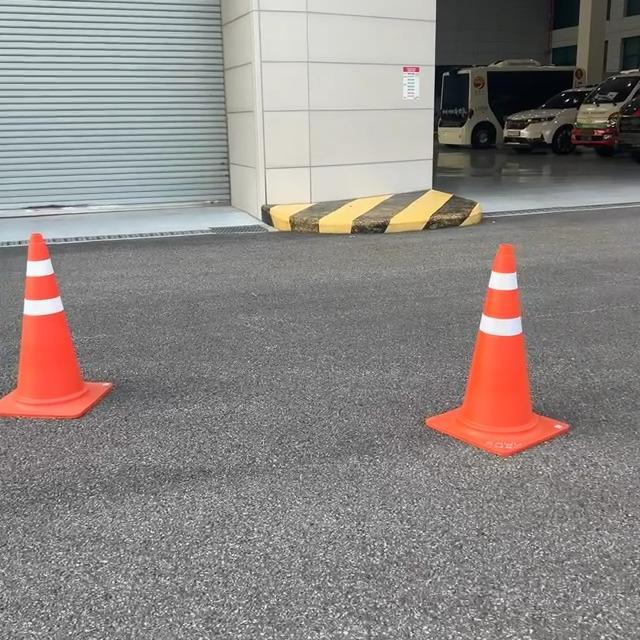fallen_object: (356, 197, 577, 508), (0, 217, 155, 433)
